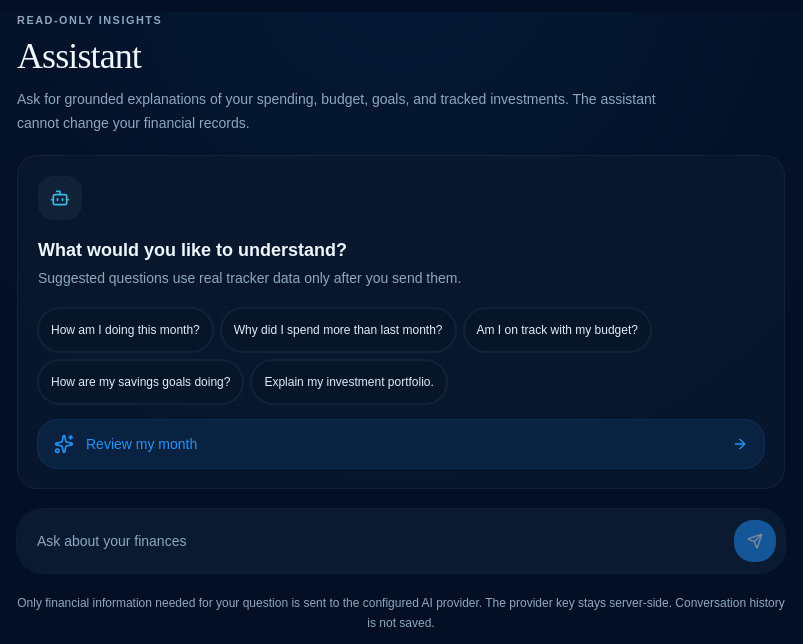
Test: AssistantPage › prevents duplicate submissions while a request is in flight
Step 1. Type "Review my spending" into the field labelled "Ask about your finances" → (375, 541), box [25, 517, 725, 565]
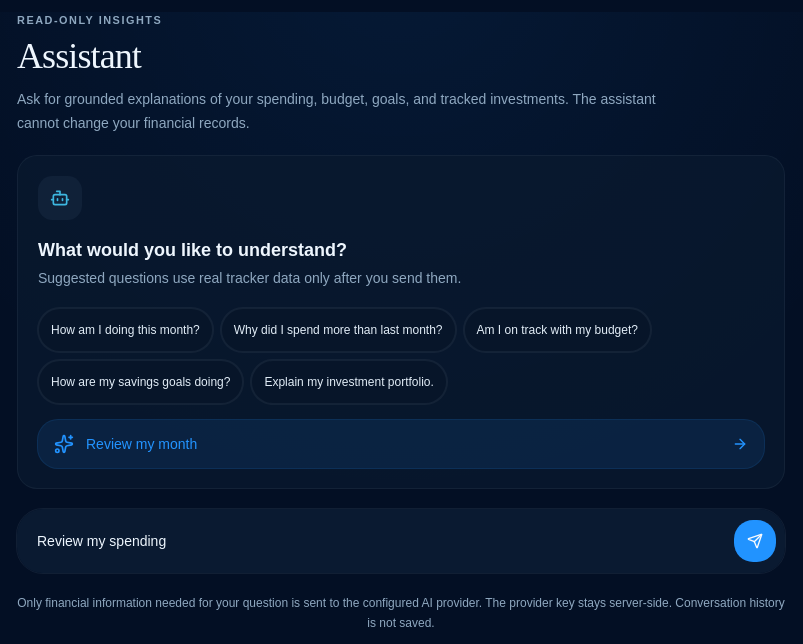
Step 2. Submit the form named "Ask about your finances", box [17, 509, 785, 573]
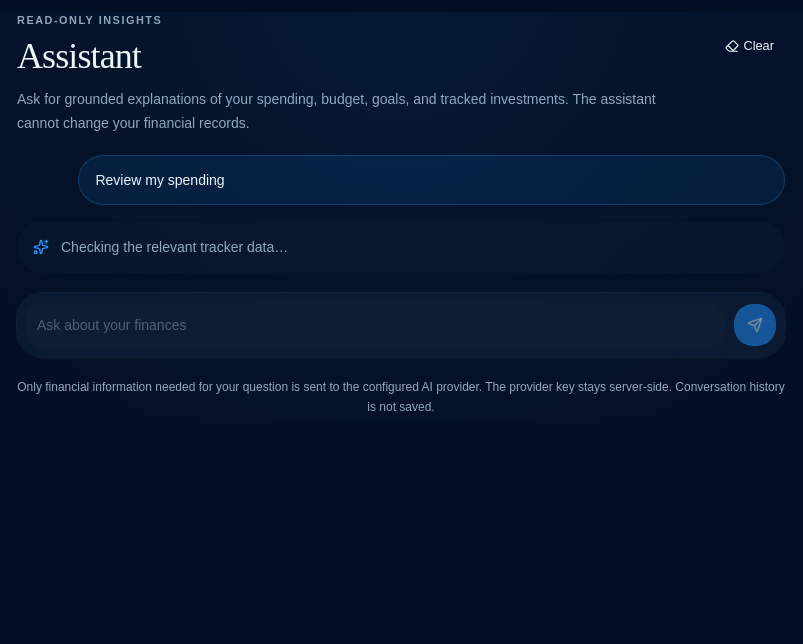
Step 3. Submit the form named "Ask about your finances", box [17, 293, 785, 357]
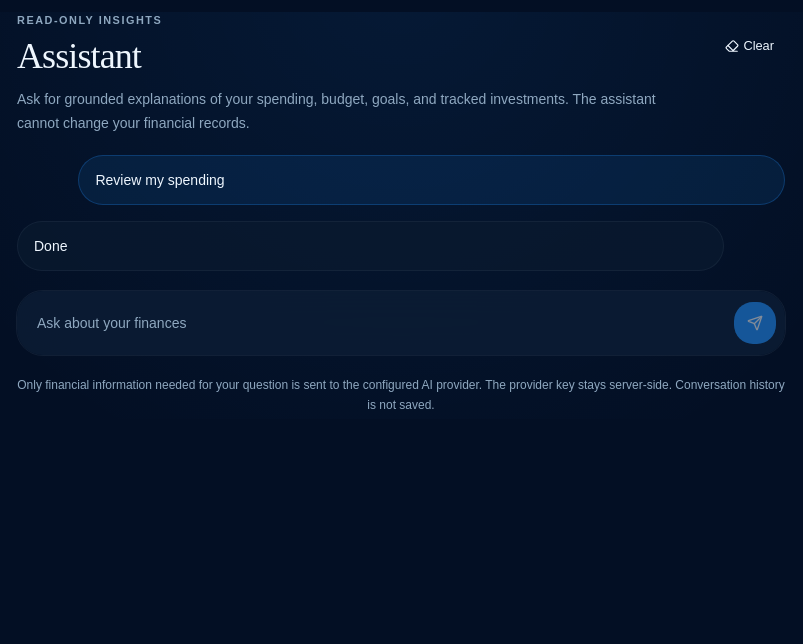
Expected: the text "Done" is shown, [34, 238, 68, 254]
